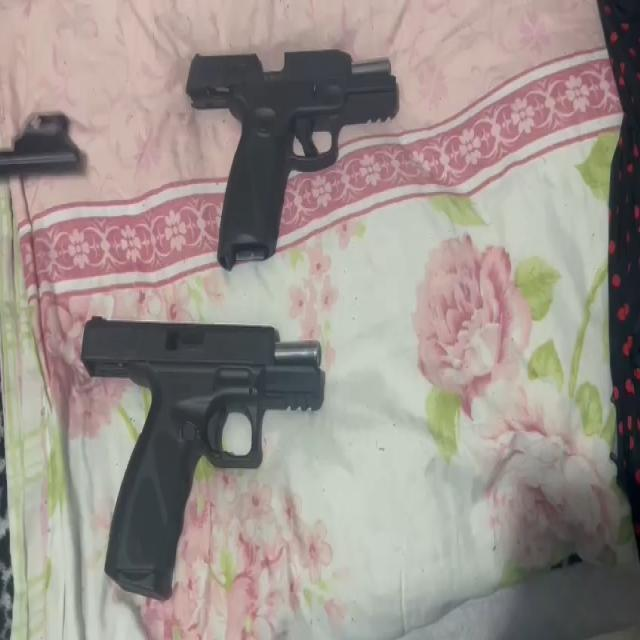gun: (79, 313, 328, 604), (178, 48, 402, 268)
